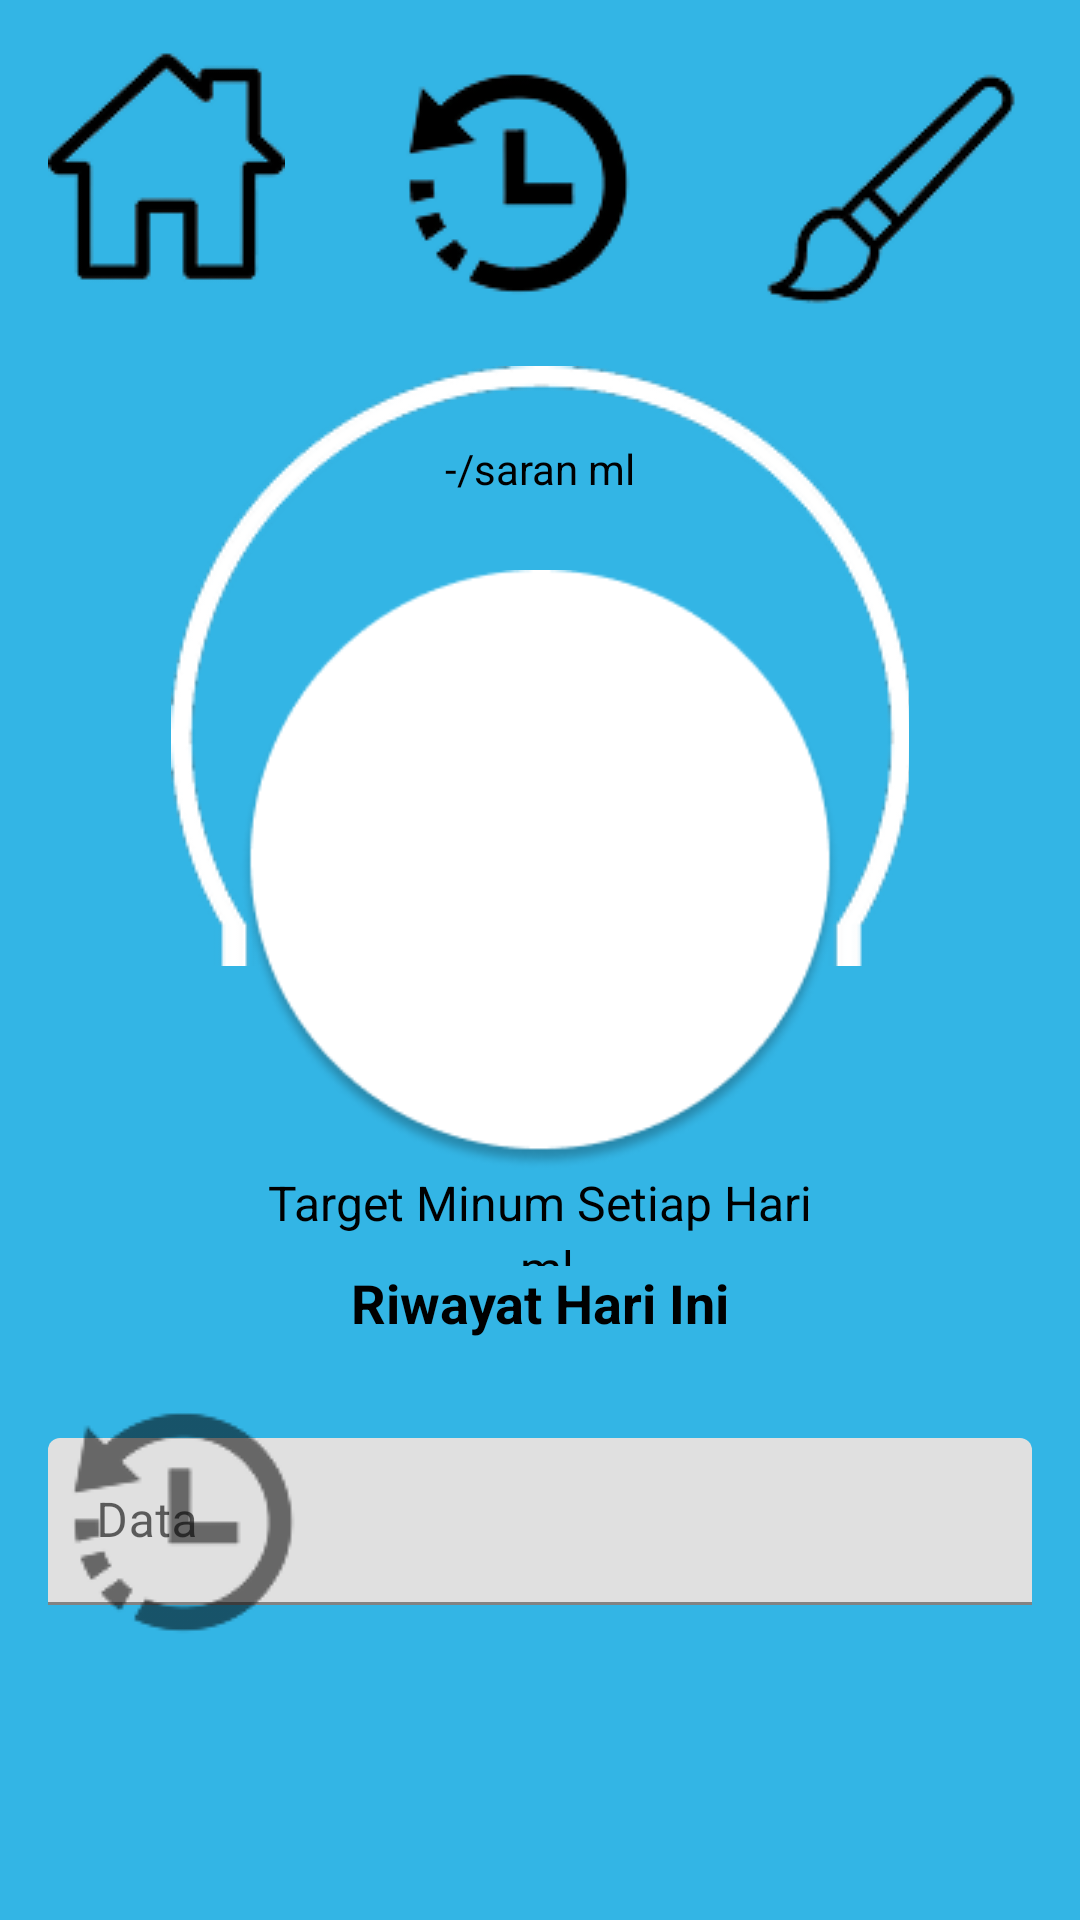

Named icons in this screenshot (1080px×1920px) and their centers, (x,y):
Beranda: (166,166)
Edit: (891,189)
Riwayat: (518,183)
